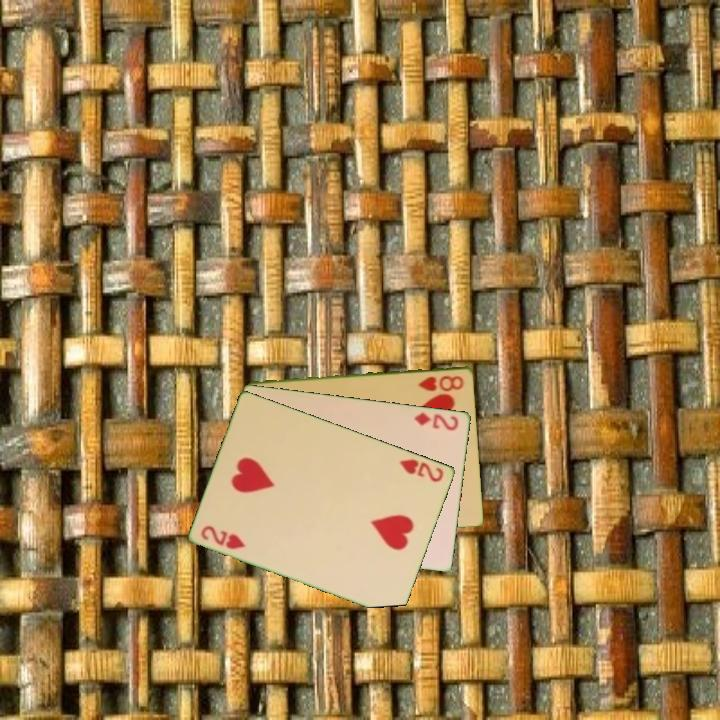2d: (411, 408, 462, 433)
2h: (396, 455, 447, 485), (198, 522, 249, 552)
8h: (415, 372, 467, 394)
